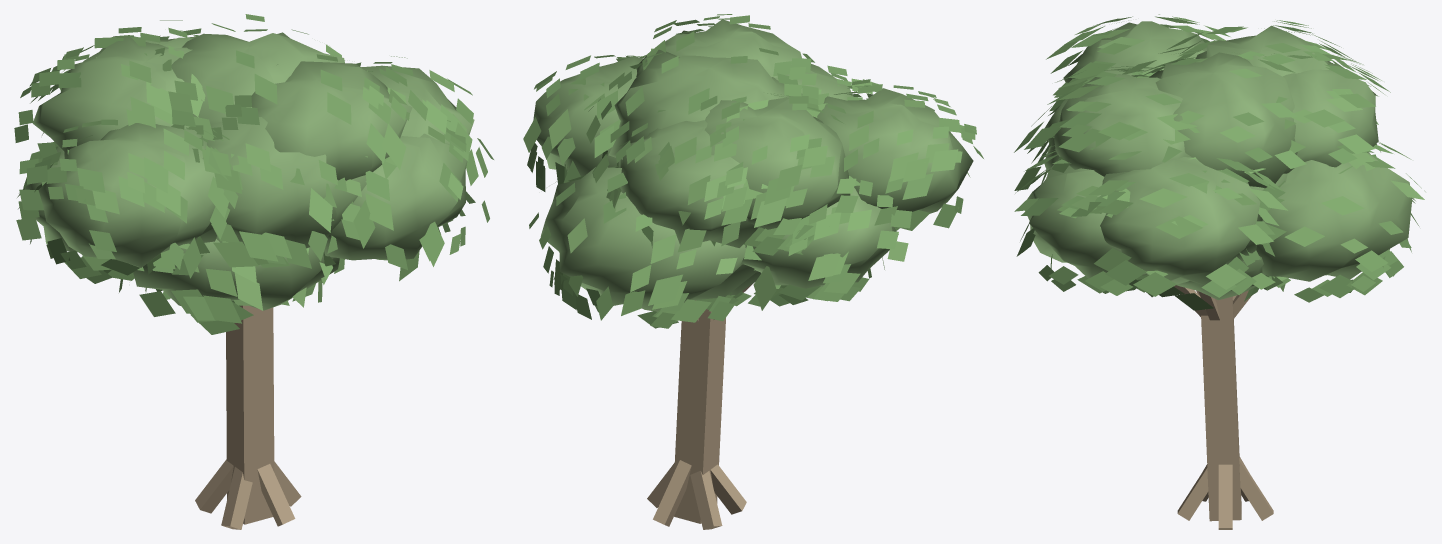
Rendered from garden_tree.glb.
3 renders of one model, left to right at view 1: azimuth 30°, elevation 25°; view 2: azimuth 150°, elevation 25°; view 3: azimuth 270°, elevation 25°, orthographic. The views are drawn at different scales.
Parts seen in each view (by area): view 1: SourceMesh_00032, SourceMesh_00028, SourceMesh_00030, SourceMesh_00025, SourceMesh_00000, SourceMesh_00022, SourceMesh_00031, SourceMesh_00029, SourceMesh_00020, SourceMesh_00027, SourceMesh_00003, SourceMesh_00002 (+2 smaller); view 2: SourceMesh_00032, SourceMesh_00021, SourceMesh_00028, SourceMesh_00031, SourceMesh_00029, SourceMesh_00026, SourceMesh_00000, SourceMesh_00027, SourceMesh_00023, SourceMesh_00030, SourceMesh_00005, SourceMesh_00004 (+2 smaller); view 3: SourceMesh_00032, SourceMesh_00027, SourceMesh_00021, SourceMesh_00029, SourceMesh_00030, SourceMesh_00000, SourceMesh_00022, SourceMesh_00026, SourceMesh_00028, SourceMesh_00031, SourceMesh_00001, SourceMesh_00005 (+2 smaller).
Part boxes in pixels (left/top/right/bottom): SourceMesh_00032: left=14, top=14, right=493, bottom=334; SourceMesh_00028: left=38, top=123, right=224, bottom=267; SourceMesh_00030: left=251, top=61, right=412, bottom=180; SourceMesh_00025: left=202, top=117, right=366, bottom=248; SourceMesh_00000: left=226, top=305, right=274, bottom=524; SourceMesh_00022: left=324, top=133, right=467, bottom=260; SourceMesh_00031: left=32, top=36, right=192, bottom=158; SourceMesh_00029: left=171, top=32, right=344, bottom=124; SourceMesh_00020: left=133, top=239, right=339, bottom=310; SourceMesh_00027: left=361, top=65, right=474, bottom=145; SourceMesh_00003: left=221, top=467, right=252, bottom=529; SourceMesh_00002: left=257, top=464, right=295, bottom=526; SourceMesh_00032: left=523, top=14, right=983, bottom=328; SourceMesh_00021: left=540, top=167, right=755, bottom=311; SourceMesh_00028: left=817, top=88, right=973, bottom=213; SourceMesh_00031: left=704, top=97, right=850, bottom=229; SourceMesh_00029: left=608, top=49, right=802, bottom=159; SourceMesh_00026: left=620, top=120, right=757, bottom=247; SourceMesh_00000: left=674, top=309, right=725, bottom=523; SourceMesh_00027: left=533, top=56, right=643, bottom=176; SourceMesh_00023: left=742, top=188, right=898, bottom=288; SourceMesh_00030: left=636, top=19, right=801, bottom=78; SourceMesh_00005: left=653, top=460, right=691, bottom=526; SourceMesh_00004: left=690, top=471, right=722, bottom=529; SourceMesh_00032: left=1014, top=14, right=1425, bottom=310; SourceMesh_00027: left=1100, top=157, right=1262, bottom=285; SourceMesh_00021: left=1256, top=152, right=1411, bottom=281; SourceMesh_00029: left=1149, top=52, right=1297, bottom=188; SourceMesh_00030: left=1054, top=74, right=1192, bottom=176; SourceMesh_00000: left=1200, top=296, right=1241, bottom=521; SourceMesh_00022: left=1025, top=161, right=1147, bottom=278; SourceMesh_00026: left=1283, top=63, right=1378, bottom=173; SourceMesh_00028: left=1063, top=21, right=1207, bottom=82; SourceMesh_00031: left=1195, top=25, right=1330, bottom=76; SourceMesh_00001: left=1218, top=464, right=1232, bottom=529; SourceMesh_00005: left=1239, top=458, right=1273, bottom=520.
Bounding box in the file's own units: 3.15 × 3.25 × 2.7.
